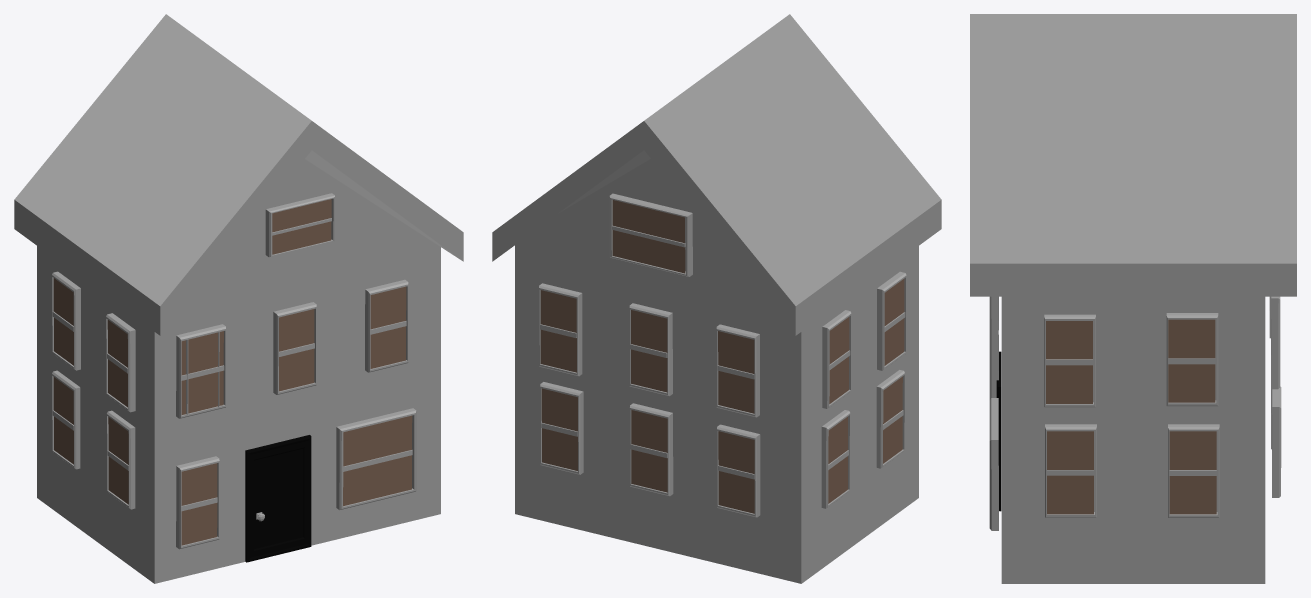
The model's file is Farmhouse4.fbx.
3 renders of one model, left to right at view 1: azimuth 30°, elevation 25°; view 2: azimuth 150°, elevation 25°; view 3: azimuth 270°, elevation 25°, orthographic. The views are drawn at different scales.
Visible parts, largest first — view 1: pCube141, pSphere20, polySurface435, polySurface439, polySurface437, polySurface436, polySurface440, polySurface450, polySurface453, polySurface456, polySurface454, polySurface455 (+1 smaller); view 2: pCube141, polySurface452, polySurface451, polySurface449, polySurface446, polySurface445, polySurface447, polySurface448, polySurface453, polySurface454, polySurface455, polySurface456; view 3: pCube141, polySurface442, polySurface444, polySurface443, polySurface441, polySurface435, polySurface447, polySurface446, polySurface437, pSphere20.
Boxes of the visible parts, x1=… form: pCube141: x1=14, y1=14, x2=463, y2=583; pSphere20: x1=245, y1=435, x2=311, y2=562; polySurface435: x1=336, y1=408, x2=416, y2=510; polySurface439: x1=273, y1=302, x2=316, y2=394; polySurface437: x1=365, y1=279, x2=408, y2=372; polySurface436: x1=176, y1=456, x2=219, y2=549; polySurface440: x1=265, y1=193, x2=334, y2=257; polySurface450: x1=183, y1=324, x2=225, y2=415; polySurface453: x1=106, y1=313, x2=135, y2=412; polySurface456: x1=106, y1=410, x2=135, y2=509; polySurface454: x1=52, y1=271, x2=80, y2=370; polySurface455: x1=52, y1=370, x2=80, y2=469; pCube141: x1=492, y1=14, x2=941, y2=583; polySurface452: x1=609, y1=193, x2=692, y2=276; polySurface451: x1=717, y1=424, x2=760, y2=517; polySurface449: x1=716, y1=324, x2=759, y2=417; polySurface446: x1=539, y1=283, x2=582, y2=376; polySurface445: x1=629, y1=303, x2=672, y2=396; polySurface447: x1=540, y1=382, x2=583, y2=474; polySurface448: x1=629, y1=403, x2=673, y2=496; polySurface453: x1=877, y1=271, x2=906, y2=370; polySurface454: x1=822, y1=310, x2=851, y2=408; polySurface455: x1=821, y1=410, x2=850, y2=508; polySurface456: x1=876, y1=370, x2=904, y2=468; pCube141: x1=970, y1=14, x2=1296, y2=583; polySurface442: x1=1166, y1=313, x2=1218, y2=406; polySurface444: x1=1168, y1=424, x2=1219, y2=517; polySurface443: x1=1045, y1=424, x2=1096, y2=517; polySurface441: x1=1044, y1=314, x2=1095, y2=407; polySurface435: x1=989, y1=398, x2=998, y2=530; polySurface447: x1=1272, y1=386, x2=1281, y2=497; polySurface446: x1=1271, y1=296, x2=1280, y2=389; polySurface437: x1=989, y1=296, x2=998, y2=380; pSphere20: x1=996, y1=351, x2=1001, y2=511.
Size of the model in its own units: 63.14 by 87.22 by 52.56.
